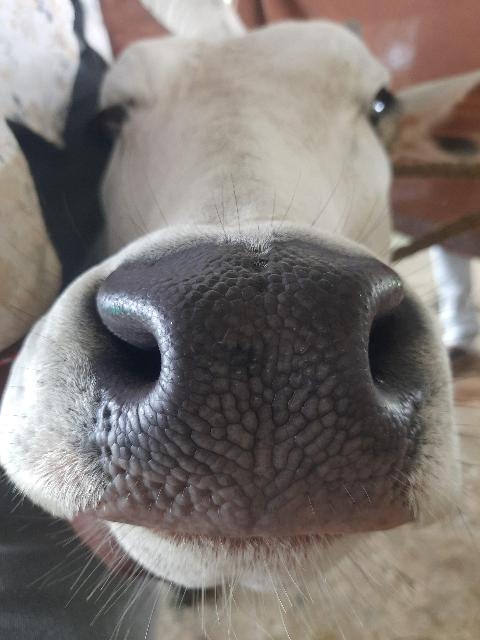Muzzle: (128, 264, 384, 522)
